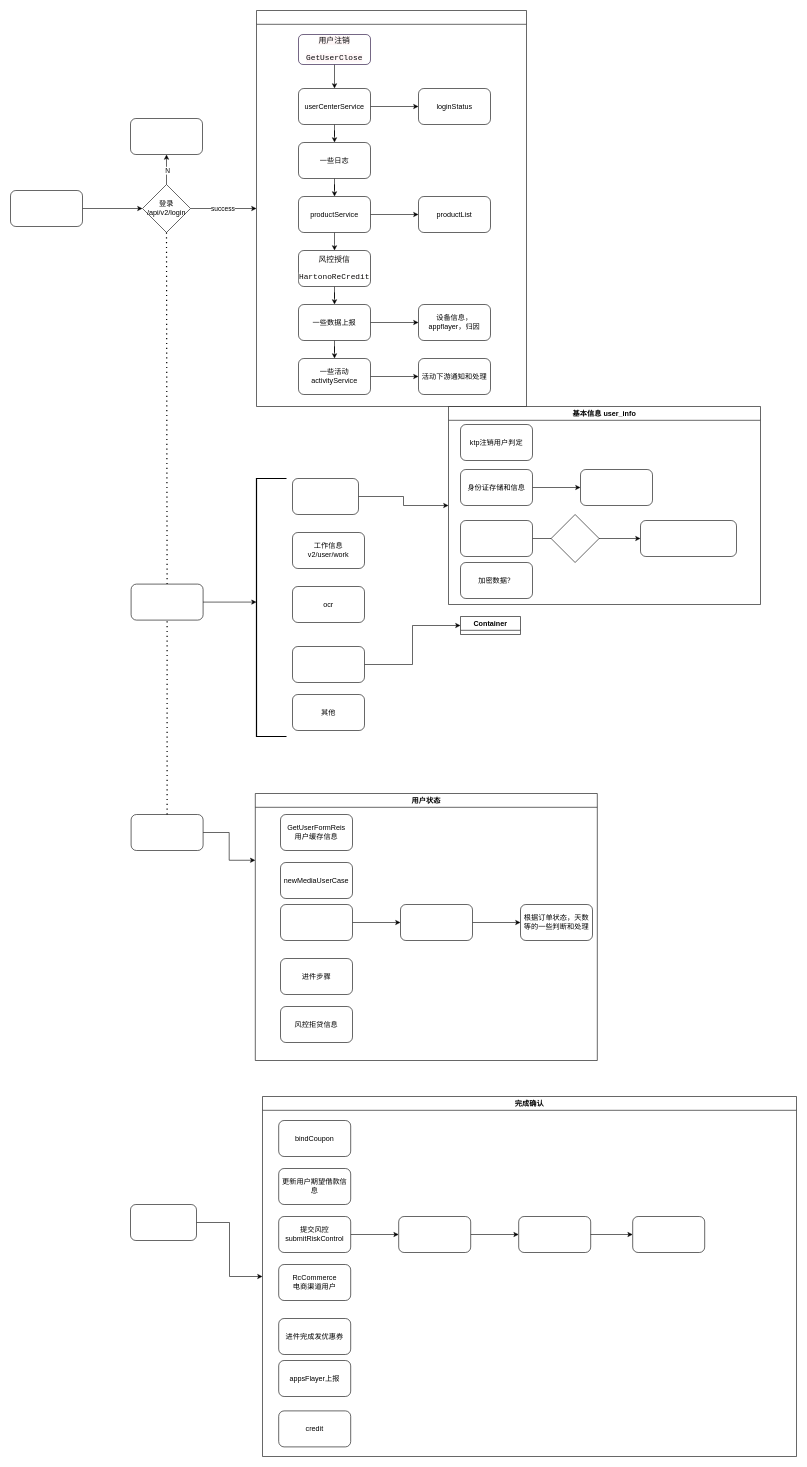
Image size: 807x1467. Some labels were removed from this diagram. Each missing label, with the centre of its shape:
"checkWhatapp" goes at pixel 668 1234.
"user_info 基本信息更新" goes at pixel 496 538.
"userActivLog" goes at pixel 316 922.
"userLoan和 未完成写user_del ktp冲突记录re prepeatKtpUser" goes at pixel 688 538.
"verifyStatus 审核状态判定和处理" goes at pixel 574 538.
"一些失败原因说明" goes at pixel 166 136.
"发送验证码api/v2/sms_code" goes at pixel 46 208.
"基本信息 api/v2/user/base" goes at pixel 325 496.
"文件异步上传队列 redis_file_list" goes at pixel 616 487.
"活体,人脸 /v2/liveness_check" goes at pixel 328 664.
"用户确认完成 v2/user/submit" goes at pixel 163 1222.
"用户进件" goes at pixel 166 602.
"用户进件状态 v2/user/status" goes at pixel 166 832.
"登录" goes at pixel 391 208.
"触发风控 launchRcCHeckV2" goes at pixel 436 922.
"身份证信息上报" goes at pixel 554 1234.
"风控队列 Redis_list_Rc" goes at pixel 434 1234.
